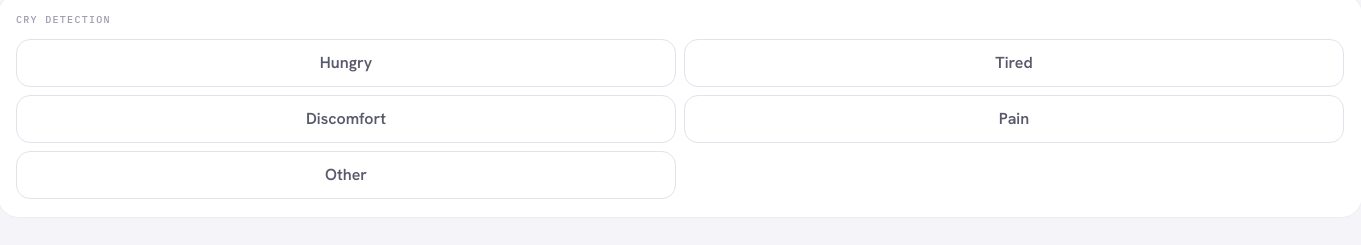
Scenario: CryPanel › a 429 surfaces the rate-limit note and stays idle
Click the button "tired" at point(1014, 63), box [684,39,1344,87]
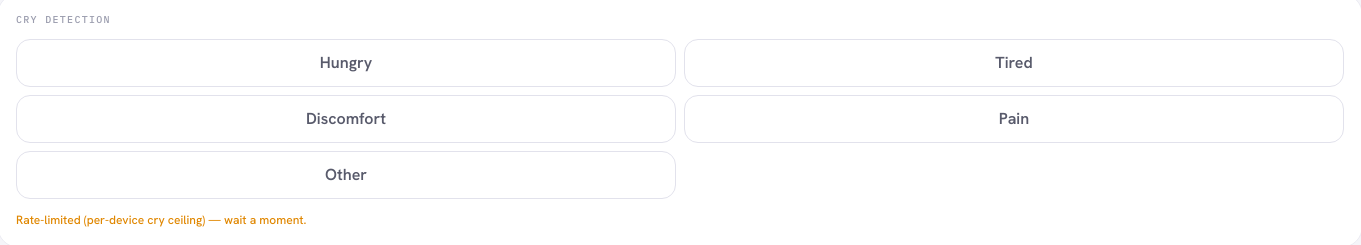
Now the text "Rate-limited (per-device cry ceiling) — wait a moment." is shown, box [16,212,306,228]
